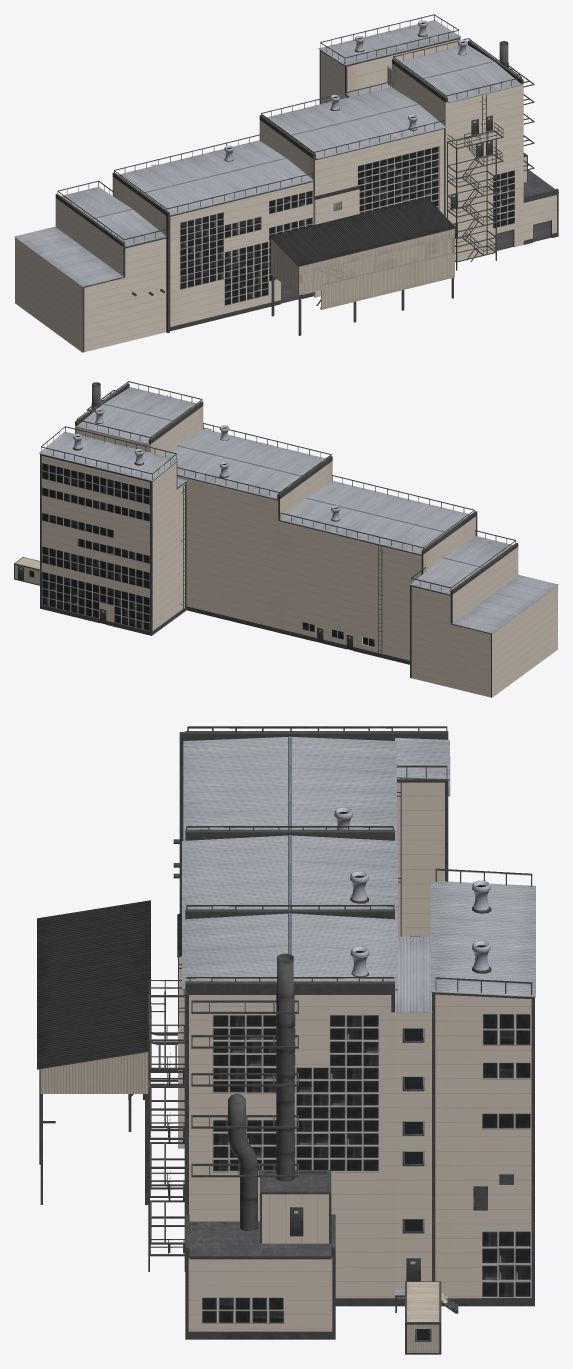
The model's file is plant-21.glb.
The picture shows the model from 3 angles, top to bottom: view 1: azimuth 30°, elevation 25°; view 2: azimuth 150°, elevation 25°; view 3: azimuth 270°, elevation 25°; orthographic projection. The views are drawn at different scales.
Visible parts, largest first — view 1: Object8934820; view 2: Object8934820; view 3: Object8934820.
Boxes of the visible parts, box(x1,y1,x2,y2) form: Object8934820: box(14, 14, 558, 352); Object8934820: box(14, 381, 558, 697); Object8934820: box(37, 726, 535, 1354).
Bounding box in the file's own units: 73.01 × 25.82 × 32.82.
Materials: 1 (1 with a texture image).
